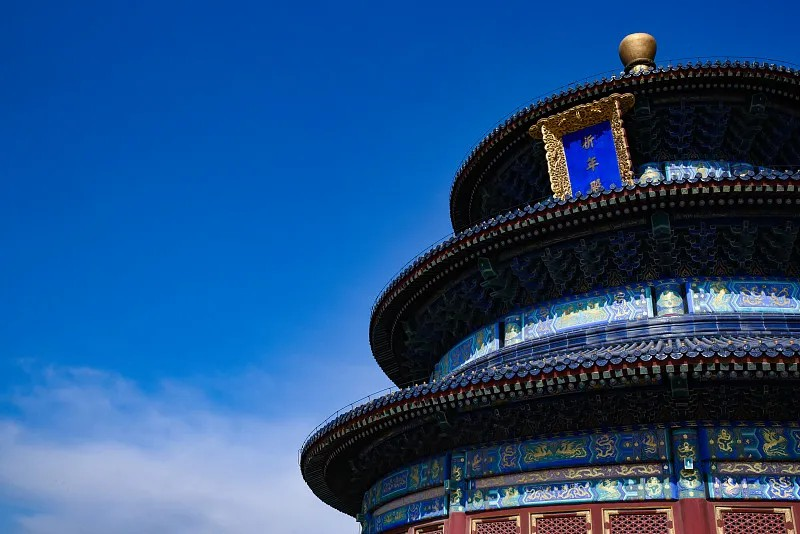Heaven: (297, 31, 800, 534)
